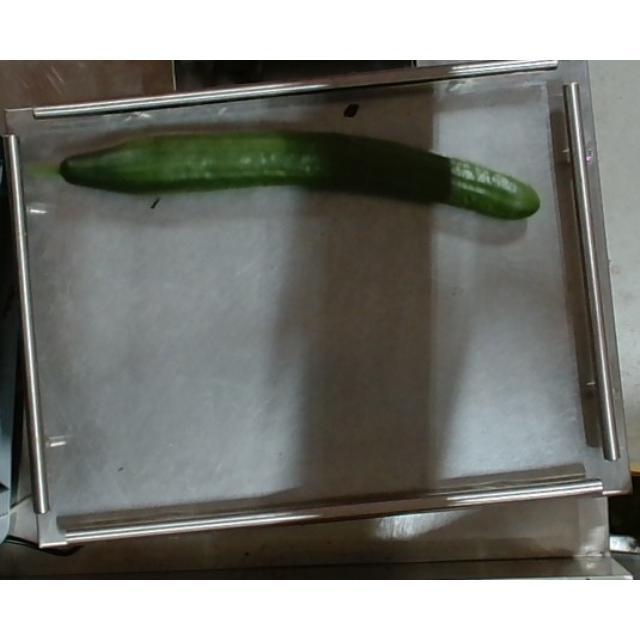cucumber: (21, 124, 539, 220)
